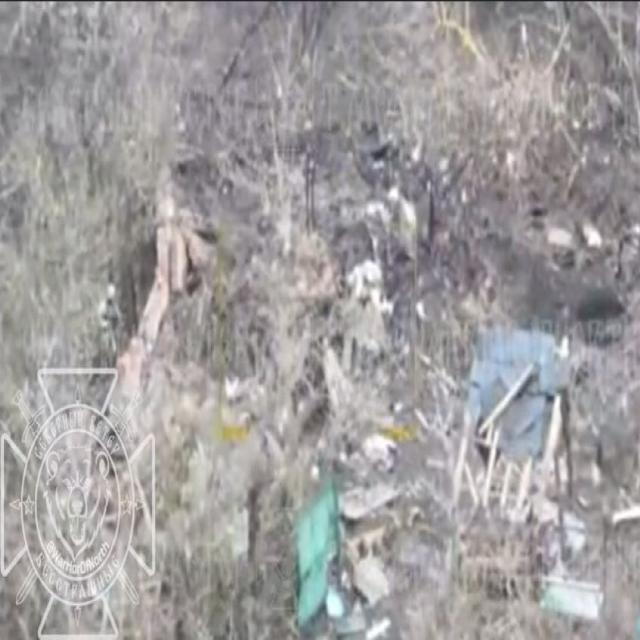fortification: (443, 318, 595, 590), (284, 469, 406, 636)
infantry: (89, 275, 129, 371)
